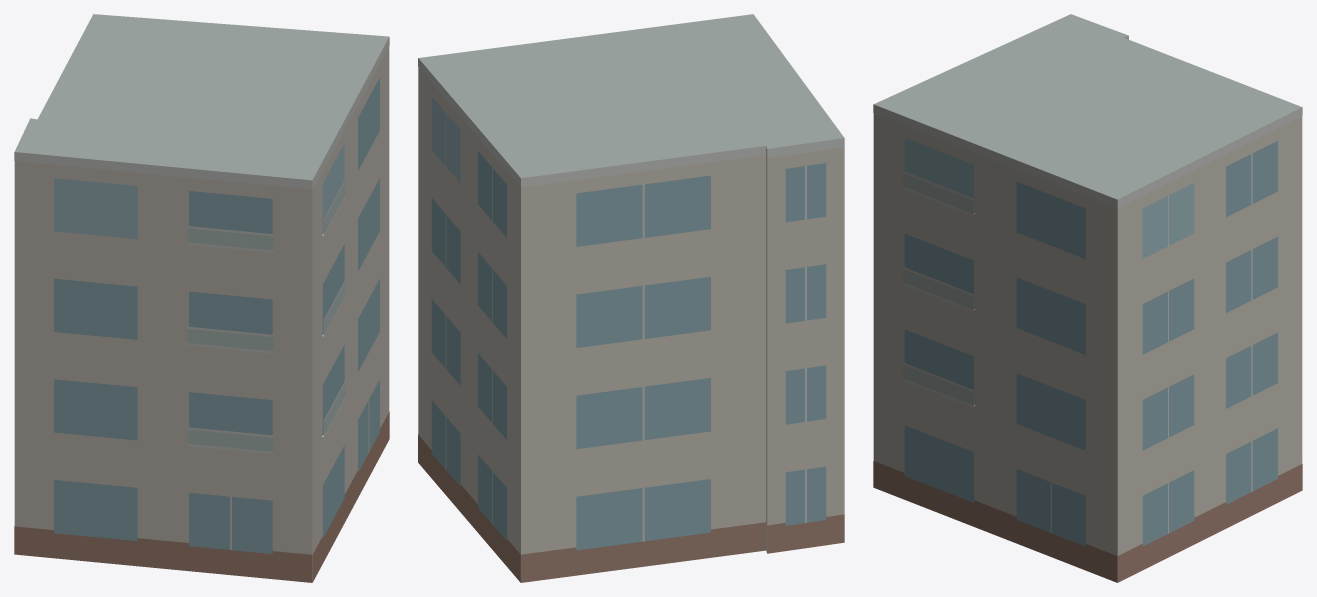
The model's file is survey-upis-32777445.glb.
3 renders of one model, left to right at view 1: azimuth 30°, elevation 25°; view 2: azimuth 150°, elevation 25°; view 3: azimuth 270°, elevation 25°, orthographic. The views are drawn at different scales.
Visible parts, largest first — view 1: survey-upis-32777445.tmp; view 2: survey-upis-32777445.tmp; view 3: survey-upis-32777445.tmp.
Part boxes in pixels (x1,y1,x2,y2): survey-upis-32777445.tmp: (14,14,389,582); survey-upis-32777445.tmp: (418,14,844,582); survey-upis-32777445.tmp: (873,14,1302,582).
Bounding box in the file's own units: 11.23 × 10.8 × 10.96.
